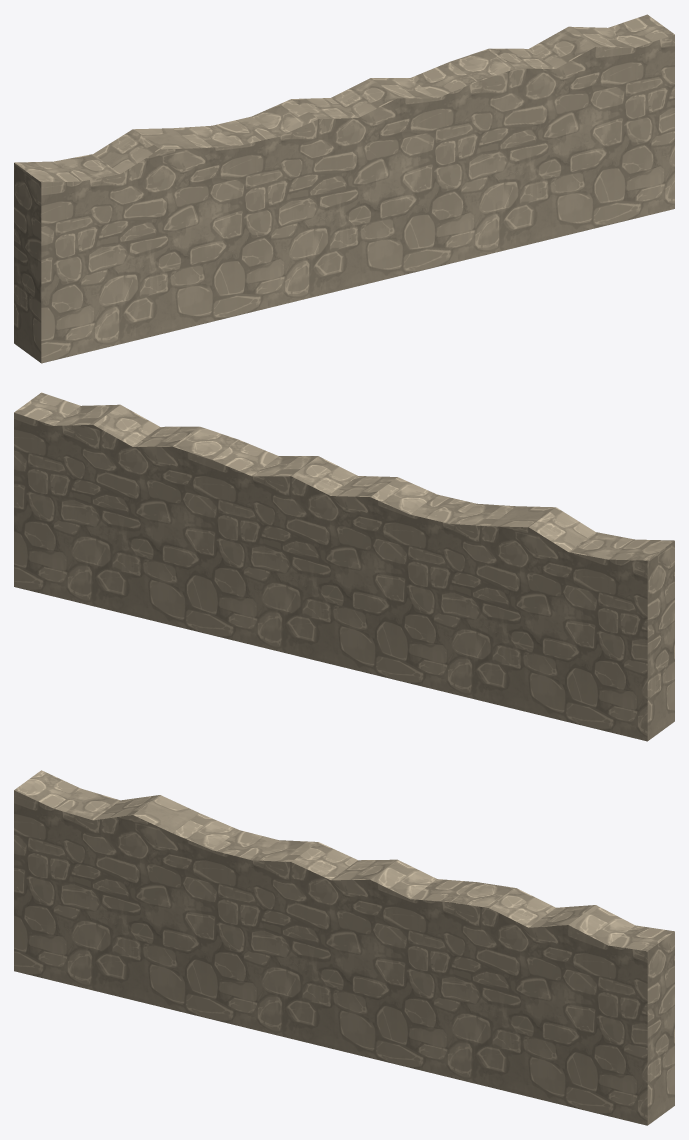
File: field_wall.gltf
3 renders of one model, top to bottom at view 1: azimuth 30°, elevation 25°; view 2: azimuth 150°, elevation 25°; view 3: azimuth 330°, elevation 25°, orthographic.
Visible parts, largest first — view 1: Whole_Wall, Piece_Wall_002, Piece_Wall_005, Piece_Wall_001, Piece_Wall_011, Piece_Wall_013, Piece_Wall_000, Piece_Wall_008, Piece_Wall_032, Piece_Wall_019, Piece_Wall_030, Piece_Wall_007 (+25 smaller); view 2: Whole_Wall, Piece_Wall_005, Piece_Wall_000, Piece_Wall_002, Piece_Wall_004, Piece_Wall_031, Piece_Wall_029, Piece_Wall_018, Piece_Wall_035, Piece_Wall_010, Piece_Wall_034, Piece_Wall_014 (+25 smaller); view 3: Whole_Wall, Piece_Wall_034, Piece_Wall_035, Piece_Wall_011, Piece_Wall_000, Piece_Wall_032, Piece_Wall_008, Piece_Wall_002, Piece_Wall_005, Piece_Wall_033, Piece_Wall_007, Piece_Wall_020 (+23 smaller).
Part boxes in pixels (x1=…): Whole_Wall: x1=14, y1=26, x2=674, y2=363; Piece_Wall_002: x1=14, y1=161, x2=100, y2=244; Piece_Wall_005: x1=61, y1=129, x2=158, y2=222; Piece_Wall_001: x1=14, y1=221, x2=101, y2=310; Piece_Wall_011: x1=175, y1=125, x2=264, y2=216; Piece_Wall_013: x1=248, y1=157, x2=315, y2=245; Piece_Wall_000: x1=14, y1=280, x2=123, y2=363; Piece_Wall_008: x1=141, y1=128, x2=202, y2=219; Piece_Wall_032: x1=542, y1=26, x2=625, y2=112; Piece_Wall_019: x1=353, y1=158, x2=420, y2=245; Piece_Wall_030: x1=567, y1=150, x2=637, y2=233; Piece_Wall_007: x1=129, y1=212, x2=197, y2=289; Whole_Wall: x1=14, y1=404, x2=674, y2=741; Piece_Wall_005: x1=513, y1=508, x2=622, y2=598; Piece_Wall_000: x1=585, y1=665, x2=674, y2=741; Piece_Wall_002: x1=597, y1=537, x2=674, y2=623; Piece_Wall_004: x1=537, y1=596, x2=610, y2=676; Piece_Wall_031: x1=60, y1=466, x2=126, y2=558; Piece_Wall_029: x1=100, y1=426, x2=192, y2=515; Piece_Wall_018: x1=264, y1=570, x2=334, y2=662; Piece_Wall_035: x1=14, y1=392, x2=84, y2=473; Piece_Wall_010: x1=421, y1=564, x2=500, y2=640; Piece_Wall_034: x1=14, y1=460, x2=64, y2=555; Piece_Wall_014: x1=378, y1=484, x2=459, y2=563; Whole_Wall: x1=14, y1=789, x2=674, y2=1125; Piece_Wall_034: x1=601, y1=979, x2=674, y2=1075; Piece_Wall_035: x1=597, y1=913, x2=674, y2=997; Piece_Wall_011: x1=173, y1=814, x2=240, y2=911; Piece_Wall_000: x1=14, y1=912, x2=95, y2=987; Piece_Wall_032: x1=516, y1=905, x2=609, y2=983; Piece_Wall_008: x1=114, y1=802, x2=201, y2=902; Piece_Wall_002: x1=14, y1=770, x2=82, y2=857; Piece_Wall_005: x1=66, y1=791, x2=174, y2=871; Piece_Wall_033: x1=581, y1=1060, x2=674, y2=1125; Piece_Wall_007: x1=102, y1=868, x2=170, y2=946; Piece_Wall_020: x1=324, y1=859, x2=410, y2=944.
Size of the model in its own units: 8 by 2.23 by 0.6.
Materials: 2 (2 with a texture image).
